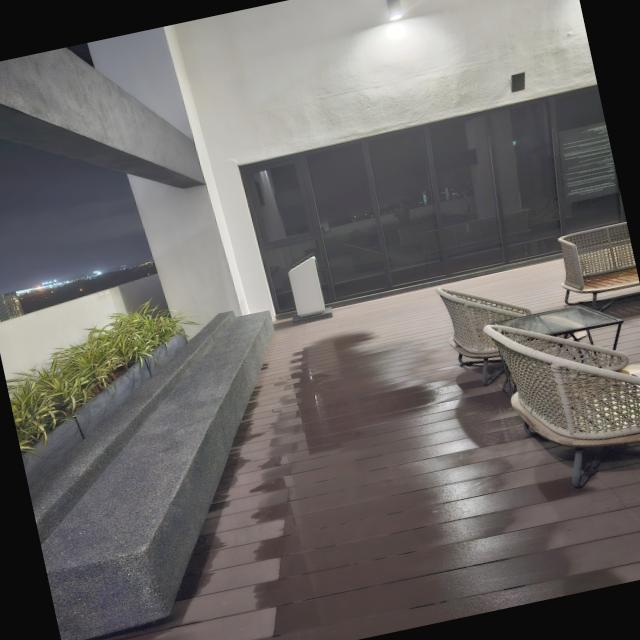footpath: (252, 310, 488, 636)
obstacle: (2, 299, 333, 640), (479, 289, 640, 504), (432, 267, 547, 394), (481, 292, 633, 385), (546, 220, 640, 320), (280, 252, 333, 324)
